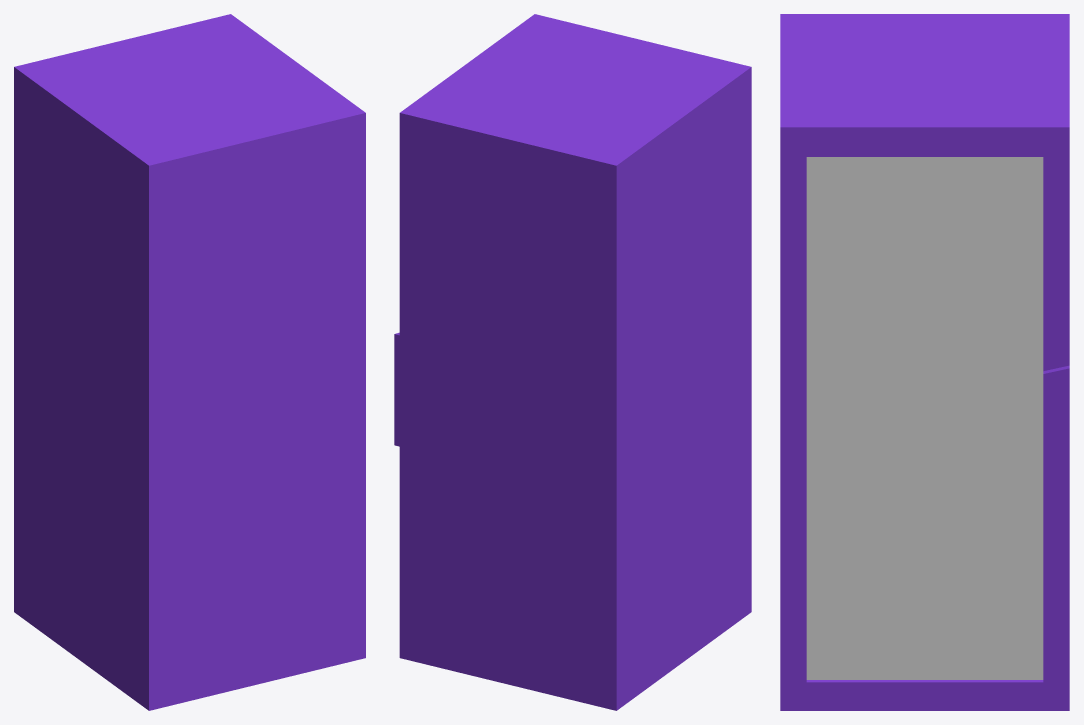
The model's file is Server_United_3.fbx.
3 views of the same model, side by side, from view 1: azimuth 30°, elevation 25°; view 2: azimuth 150°, elevation 25°; view 3: azimuth 270°, elevation 25° (orthographic). The views are drawn at different scales.
Visible parts, largest first — view 1: Server; view 2: Server; view 3: Glass, Server.
Boxes of the visible parts, x1,y1,x2,y2 form: Server: (14, 14, 365, 710); Server: (394, 14, 751, 710); Glass: (806, 157, 1043, 679); Server: (780, 14, 1069, 710).
Bounding box in the file's own units: 209 × 490 × 220.
